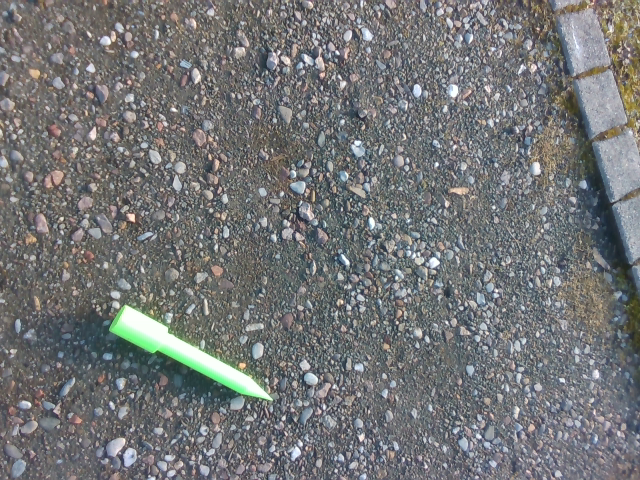Probe: (106, 303, 282, 409)
